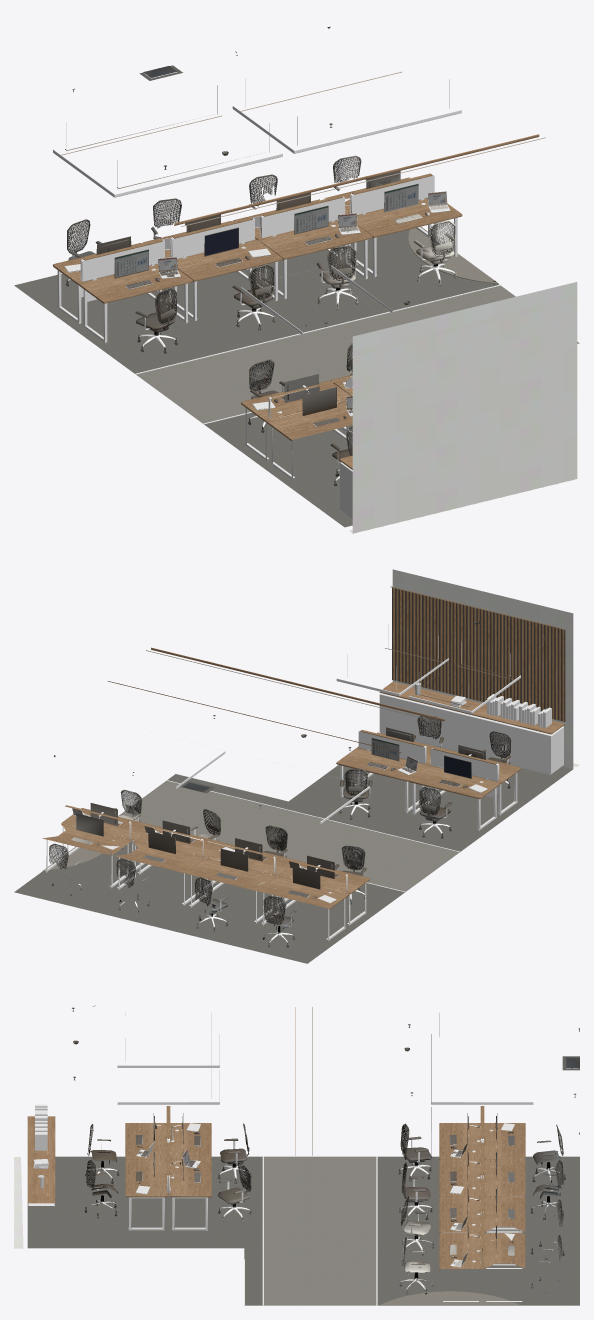
File: z-open_e-lite.light.8bb869dc.glb
The picture shows the model from 3 angles, top to bottom: view 1: azimuth 30°, elevation 25°; view 2: azimuth 150°, elevation 25°; view 3: azimuth 270°, elevation 25°; orthographic projection. The views are drawn at different scales.
Visible parts, largest first — view 1: open_e_plaster, open_e_carpet, open_e_oak, open_e_fx, open_e_satin, open_e_emit, open_e_metal_lit; view 2: open_e_carpet, open_e_proxy_slat, open_e_oak, open_e_satin, open_e_fx, open_e_plaster, open_e_emit, open_e_metal_lit; view 3: open_e_carpet, open_e_oak, open_e_fx, open_e_satin, open_e_metal_lit, open_e_plaster.
Part boxes in pixels (x1,y1,x2,y2): open_e_plaster: (349, 282, 577, 533); open_e_carpet: (14, 226, 579, 527); open_e_oak: (53, 134, 539, 469); open_e_fx: (65, 26, 495, 486); open_e_satin: (53, 78, 500, 519); open_e_emit: (61, 71, 545, 408); open_e_metal_lit: (64, 191, 579, 480); open_e_carpet: (14, 765, 572, 963); open_e_proxy_slat: (392, 587, 565, 721); open_e_oak: (42, 647, 564, 909); open_e_satin: (45, 624, 563, 940); open_e_fx: (49, 604, 545, 947); open_e_plaster: (392, 569, 579, 768); open_e_emit: (146, 586, 562, 817); open_e_metal_lit: (74, 743, 508, 942); open_e_carpet: (27, 1156, 579, 1305); open_e_oak: (27, 1007, 525, 1269); open_e_fx: (72, 1007, 579, 1294); open_e_satin: (28, 1005, 533, 1305); open_e_metal_lit: (89, 1123, 559, 1305); open_e_plaster: (14, 1157, 23, 1248).
Size of the model in its own units: 6.5 by 3.36 by 10.45.
Materials: 9 (6 with a texture image).
